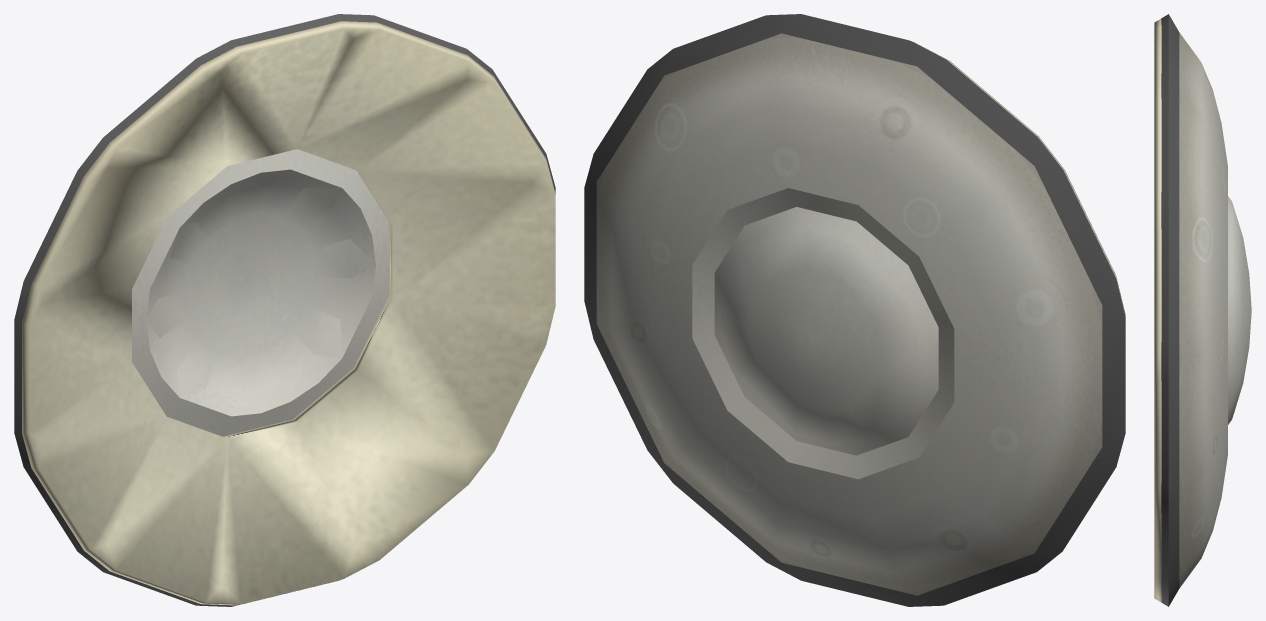
Rendered from nt_2020_kitchen_light_01_LOD1.obj.
3 renders of one model, left to right at view 1: azimuth 30°, elevation 25°; view 2: azimuth 150°, elevation 25°; view 3: azimuth 270°, elevation 25°, orthographic. The views are drawn at different scales.
Visible parts, largest first — view 1: glass_frosted_lit, mtl_nt_2020_kitchen_light_glass, nt_2020_metal_chrome; view 2: mtl_nt_2020_kitchen_light_glass, nt_2020_metal_chrome; view 3: mtl_nt_2020_kitchen_light_glass, nt_2020_metal_chrome, glass_frosted_lit.
Part boxes in pixels (left/top/right/bottom): glass_frosted_lit: left=22, top=21, right=555, bottom=605; mtl_nt_2020_kitchen_light_glass: left=132, top=149, right=389, bottom=436; nt_2020_metal_chrome: left=14, top=14, right=555, bottom=606; mtl_nt_2020_kitchen_light_glass: left=596, top=33, right=1102, bottom=595; nt_2020_metal_chrome: left=584, top=14, right=1125, bottom=606; mtl_nt_2020_kitchen_light_glass: left=1179, top=32, right=1251, bottom=588; nt_2020_metal_chrome: left=1161, top=14, right=1179, bottom=606; glass_frosted_lit: left=1154, top=18, right=1161, bottom=602.
Size of the model in its own units: 401 by 401 by 66.84.
